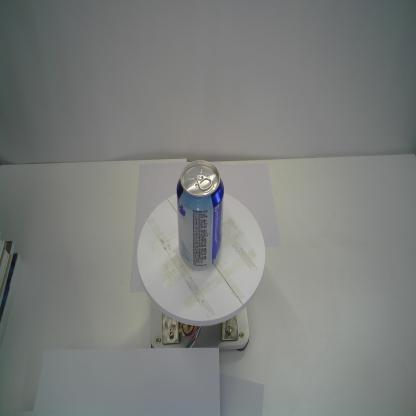Alcohol: (176, 160, 225, 272)
